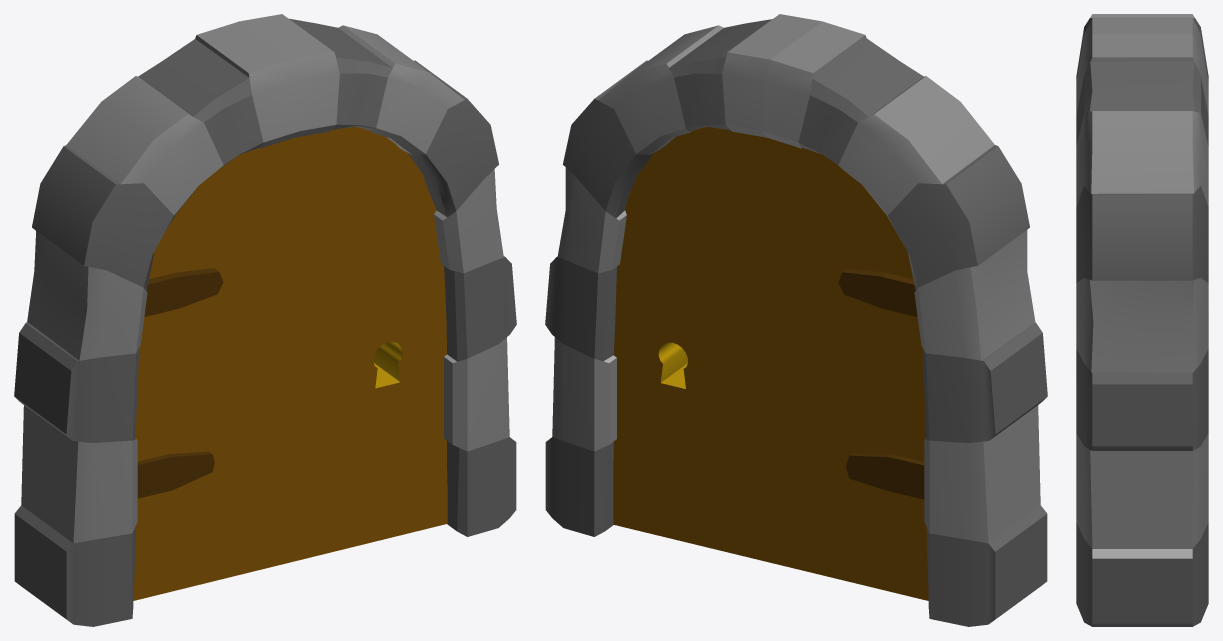
Rendered from puerta.fbx.
3 views of the same model, side by side, from view 1: azimuth 30°, elevation 25°; view 2: azimuth 150°, elevation 25°; view 3: azimuth 270°, elevation 25° (orthographic). The views are drawn at different scales.
Parts seen in each view (by area): view 1: polySurface5, polySurface1; view 2: polySurface5, polySurface1; view 3: polySurface5.
Part boxes in pixels (x1,y1,x2,y2): polySurface5: (14, 14, 516, 626); polySurface1: (133, 126, 447, 600); polySurface5: (545, 14, 1047, 626); polySurface1: (613, 126, 928, 600); polySurface5: (1076, 14, 1208, 626).
Size of the model in its own units: 1.07 by 1.16 by 0.2829.
